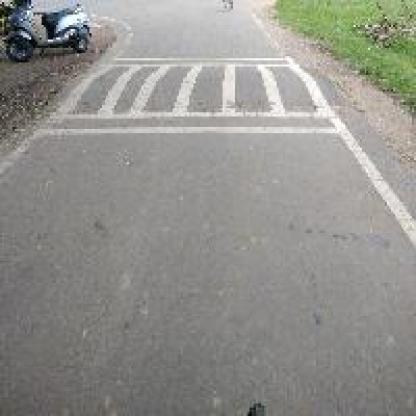Speed Bump: (32, 54, 348, 139)
